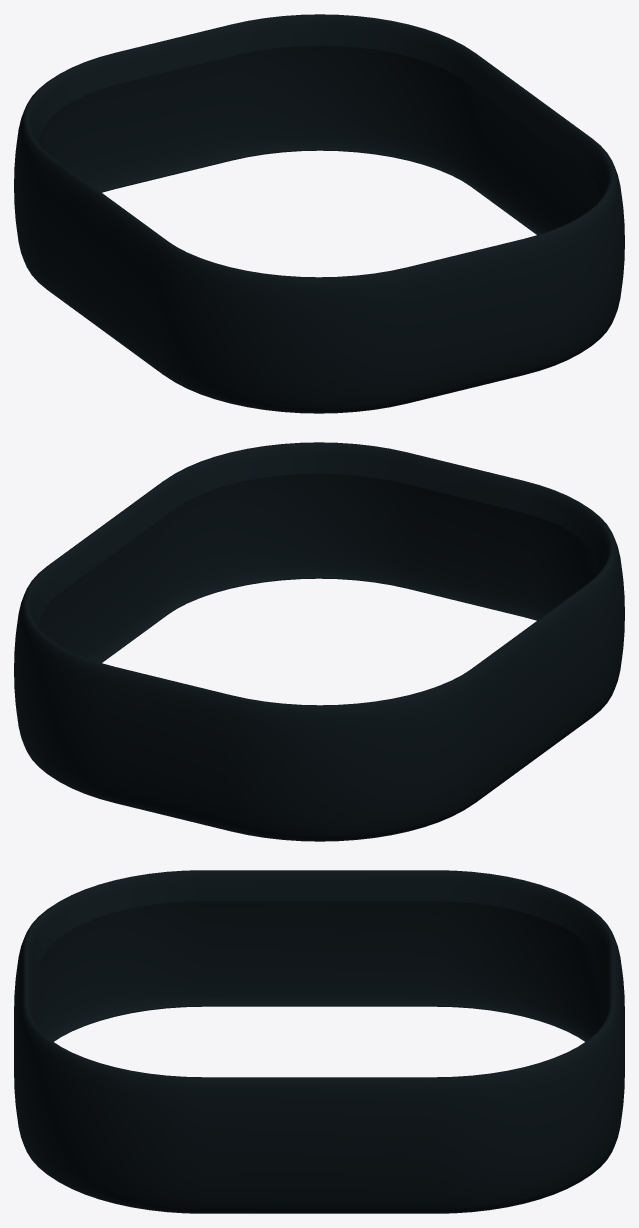
File: SM_StadiumWall_MC.fbx
The picture shows the model from 3 angles, top to bottom: view 1: azimuth 30°, elevation 25°; view 2: azimuth 150°, elevation 25°; view 3: azimuth 270°, elevation 25°; orthographic projection.
Visible parts, largest first — view 1: SM_StadiumWall_MC; view 2: SM_StadiumWall_MC; view 3: SM_StadiumWall_MC.
Part boxes in pixels (x1=…): SM_StadiumWall_MC: x1=14, y1=14, x2=624, y2=413; SM_StadiumWall_MC: x1=14, y1=442, x2=624, y2=841; SM_StadiumWall_MC: x1=14, y1=870, x2=624, y2=1213.
Bounding box in the file's own units: 12920 × 3787 × 15351.
